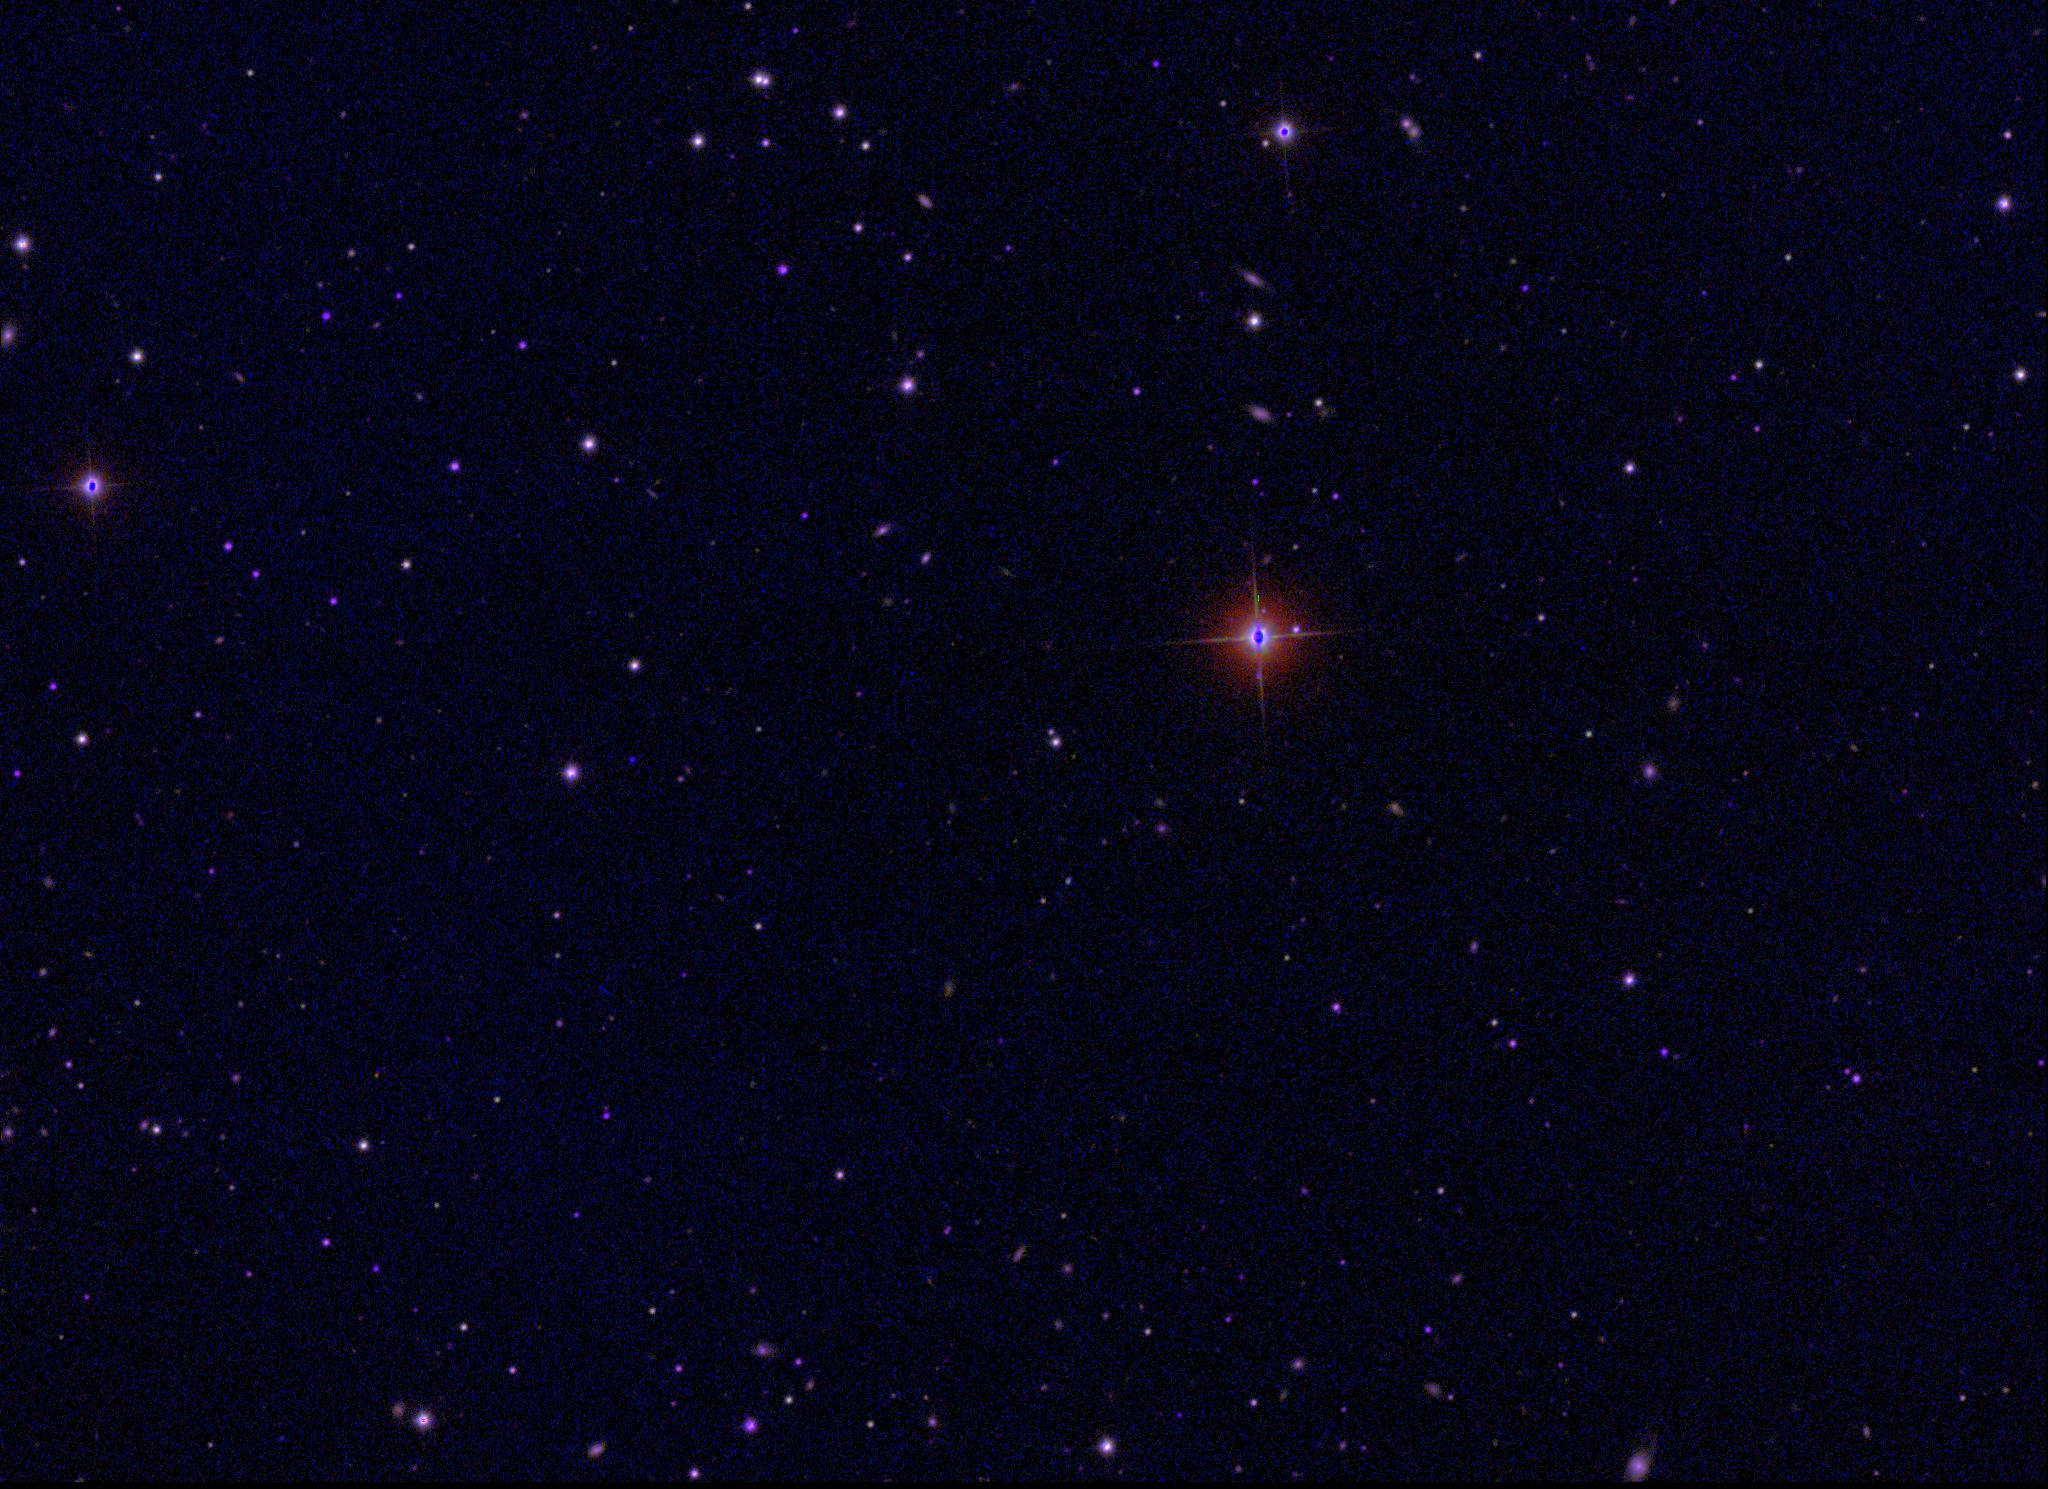L: (625, 752, 639, 767)
